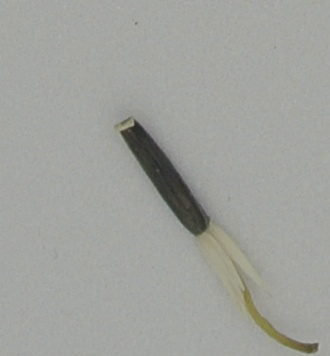เมล็ดดีเรียวยาว: (114, 113, 318, 353)
